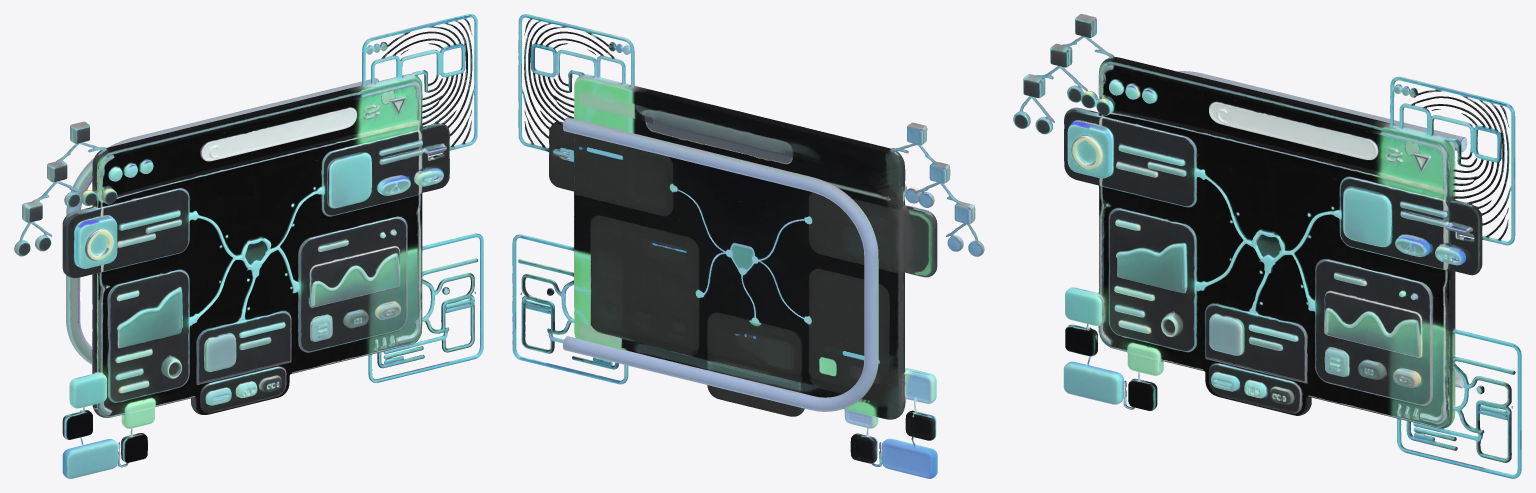
The model's file is web_2.glb.
3 renders of one model, left to right at view 1: azimuth 30°, elevation 25°; view 2: azimuth 150°, elevation 25°; view 3: azimuth 330°, elevation 25°, orthographic. The views are drawn at different scales.
Size of the model in its own units: 1.9 by 1.42 by 0.2801.
Materials: 1 (1 with a texture image).
